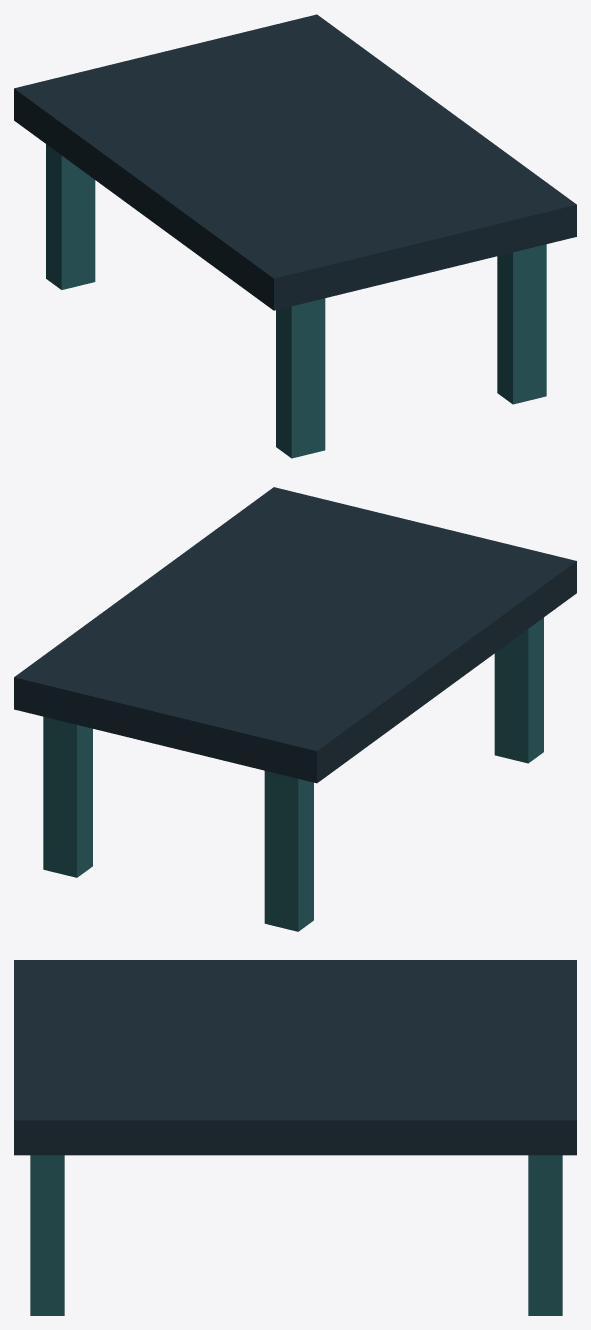
Rendered from Interior_Table_Blue.fbx.
3 views of the same model, one above another, from view 1: azimuth 30°, elevation 25°; view 2: azimuth 150°, elevation 25°; view 3: azimuth 270°, elevation 25° (orthographic). The views are drawn at different scales.
Parts seen in each view (by area): view 1: Cube.232; view 2: Cube.232; view 3: Cube.232.
Boxes of the visible parts, x1,y1,x2,y2 form: Cube.232: (14, 14, 576, 458); Cube.232: (14, 487, 576, 931); Cube.232: (14, 960, 576, 1315).
Bounding box in the file's own units: 92.46 × 55.86 × 137.
